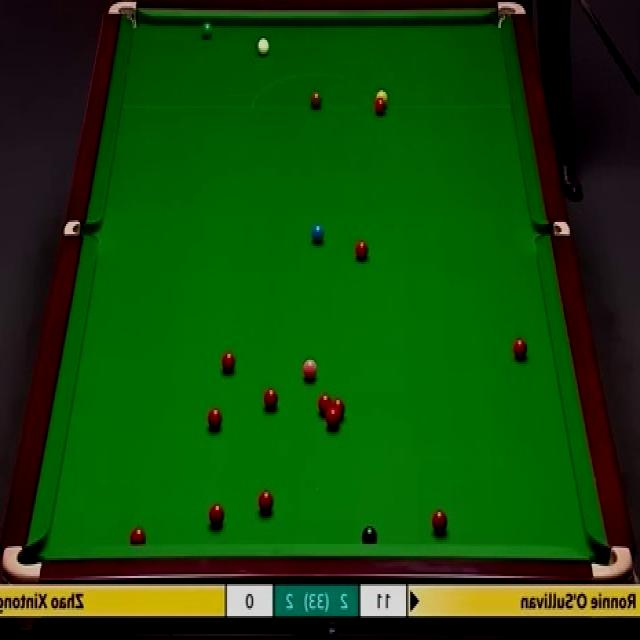black-ball: (360, 525, 378, 546)
blue-ball: (310, 222, 324, 246)
brown-ball: (310, 88, 322, 108)
green-ball: (201, 22, 214, 40)
pink-ball: (301, 359, 318, 384)
red-ball: (264, 385, 282, 411), (432, 508, 449, 535), (208, 504, 225, 530), (220, 349, 236, 375), (258, 490, 274, 516), (207, 406, 223, 429), (514, 335, 528, 360), (332, 398, 346, 422), (318, 393, 331, 418), (356, 237, 368, 264), (129, 526, 147, 543), (324, 411, 340, 430), (375, 98, 386, 115)
white-ball: (255, 38, 269, 57)
yellow-ball: (376, 88, 388, 107)
